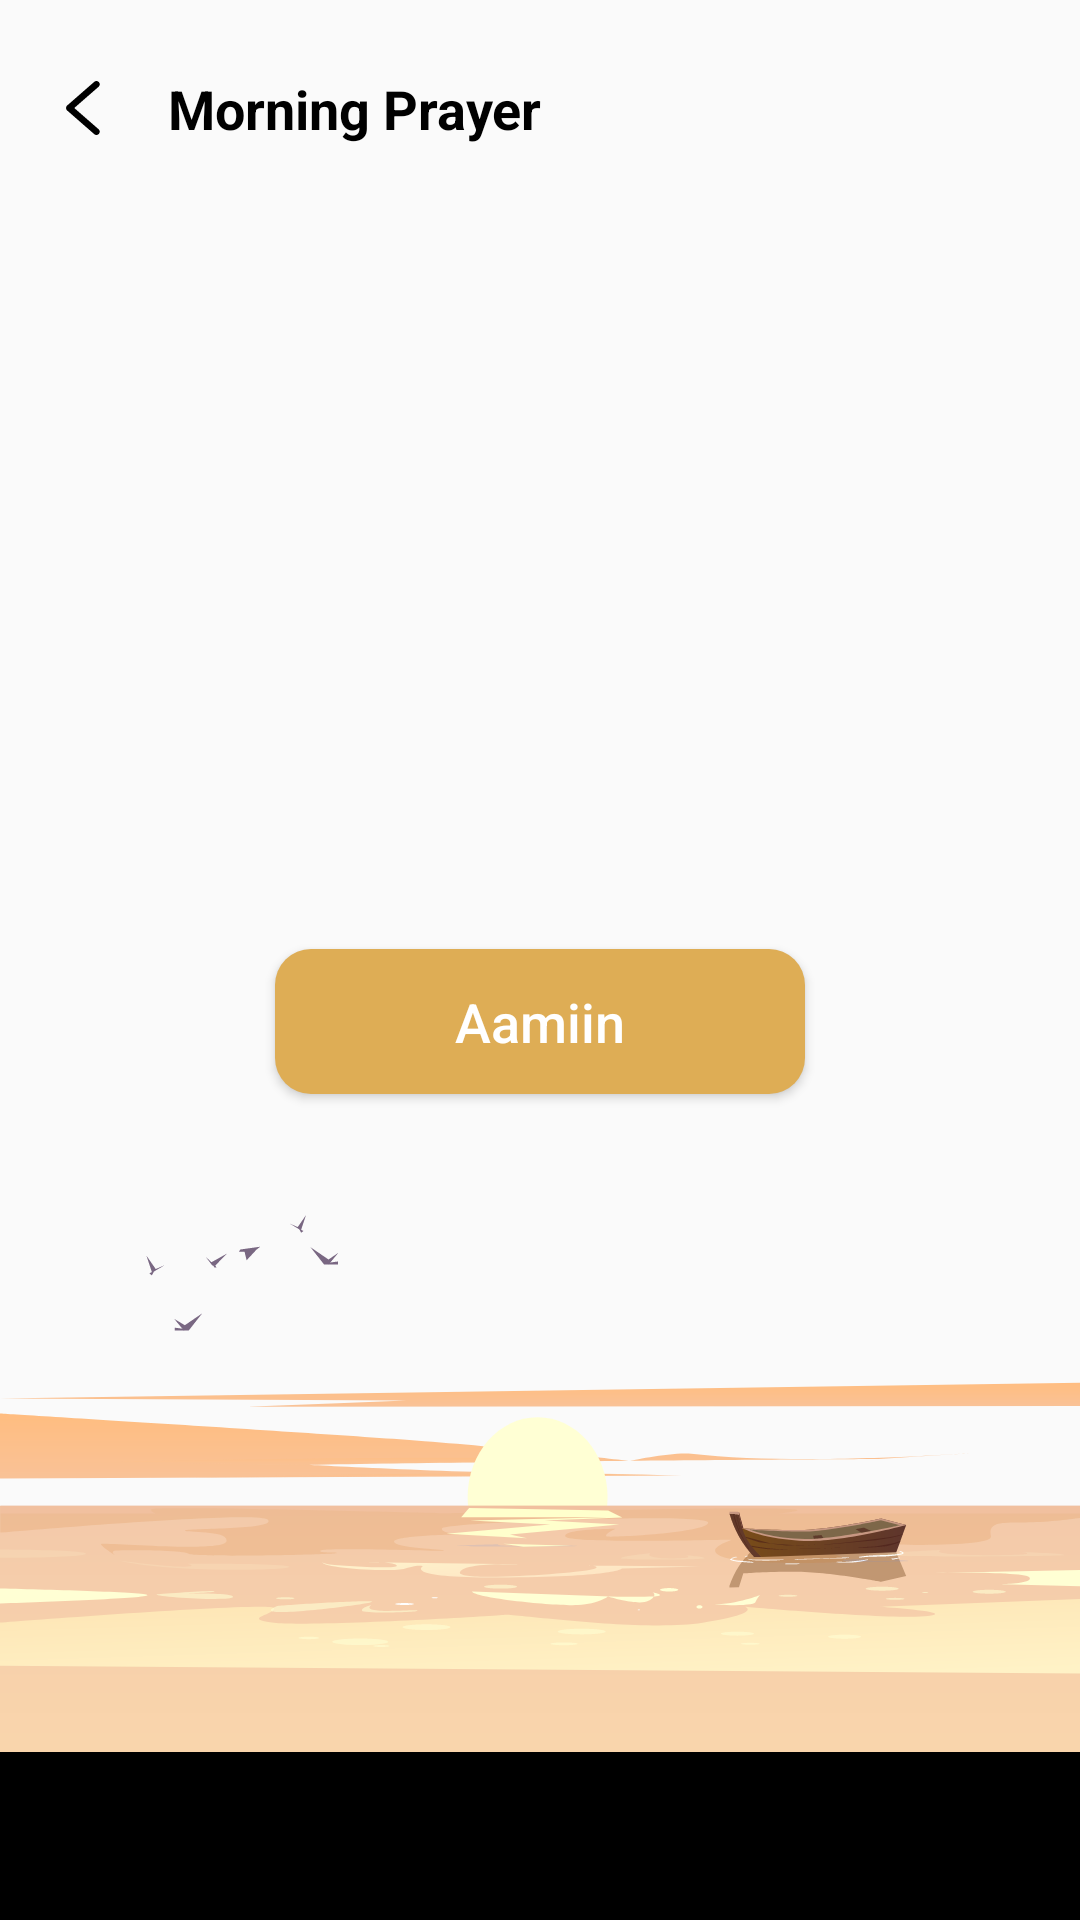

Where to tap for icons on this 1080px x 1920px app screen, as [x,y]:
arrow back: [83,108]
